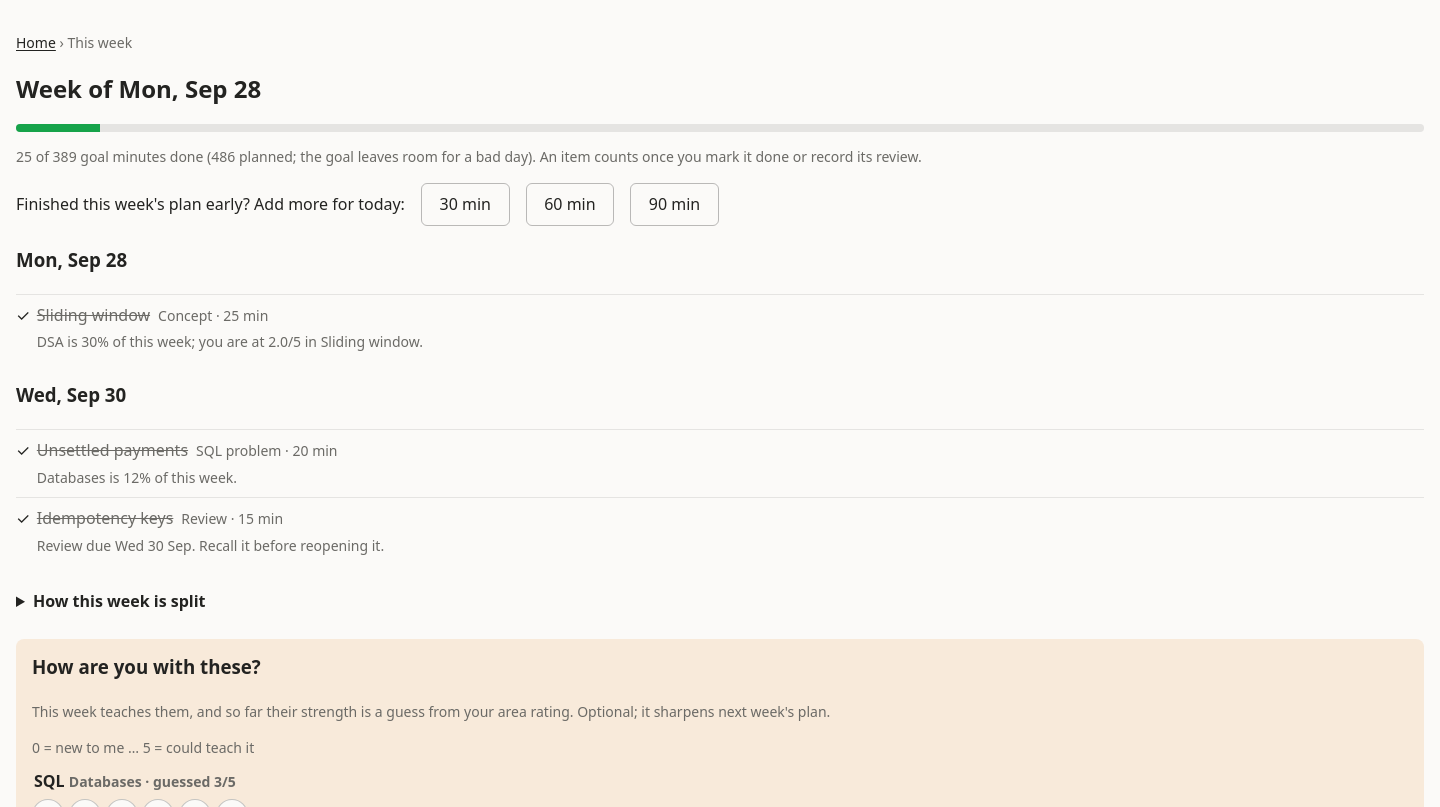
Test: WeekPage › says so when more could not be added, and lets the learner try again
Click the button "30 min".
click(465, 204)  # box [421,183,510,226]
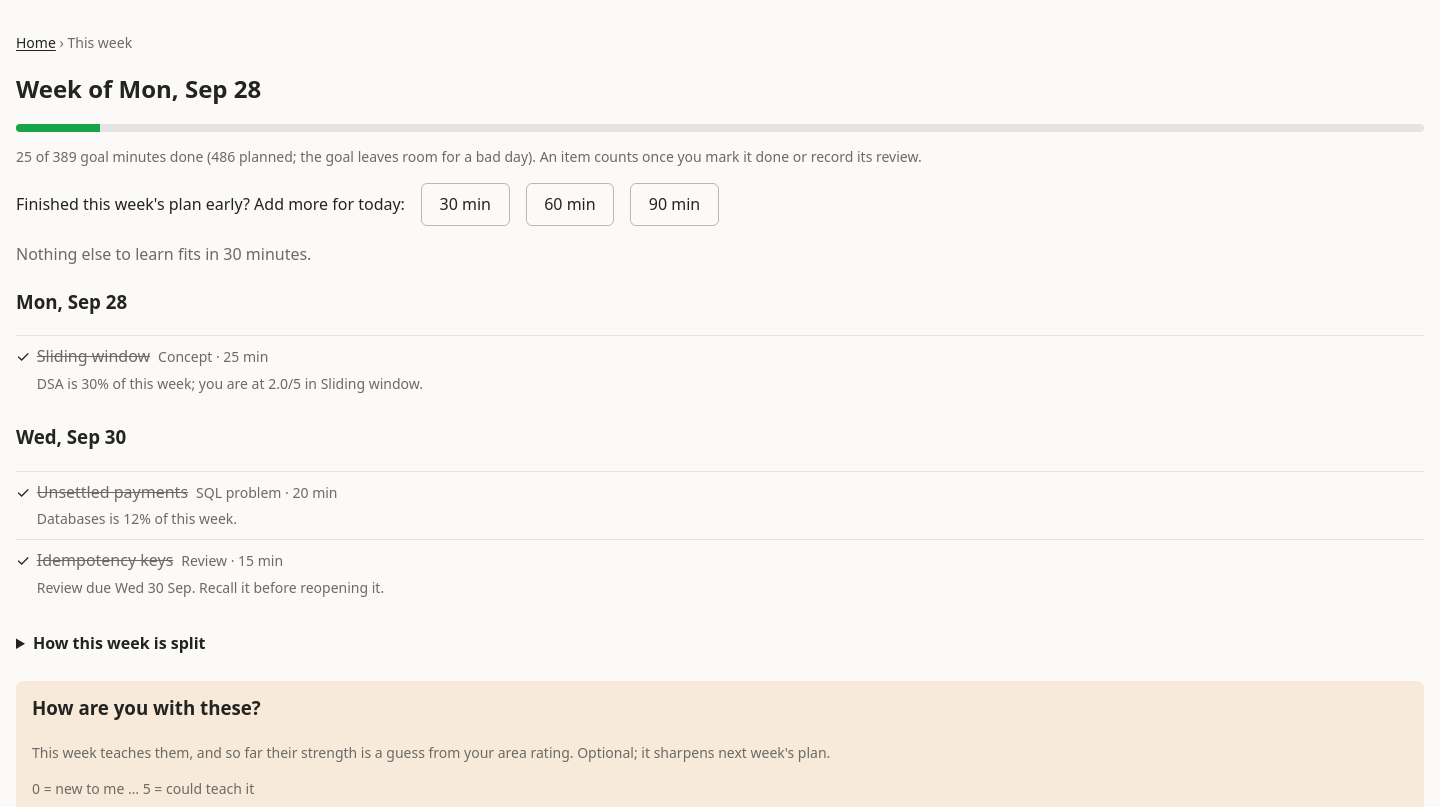
Now the message reads "Nothing else to learn fits in 30 minutes.", box [16,243,311,265]
